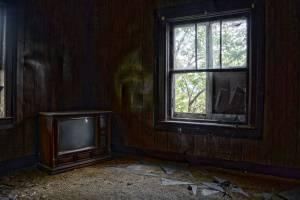window: (164, 9, 256, 129)
